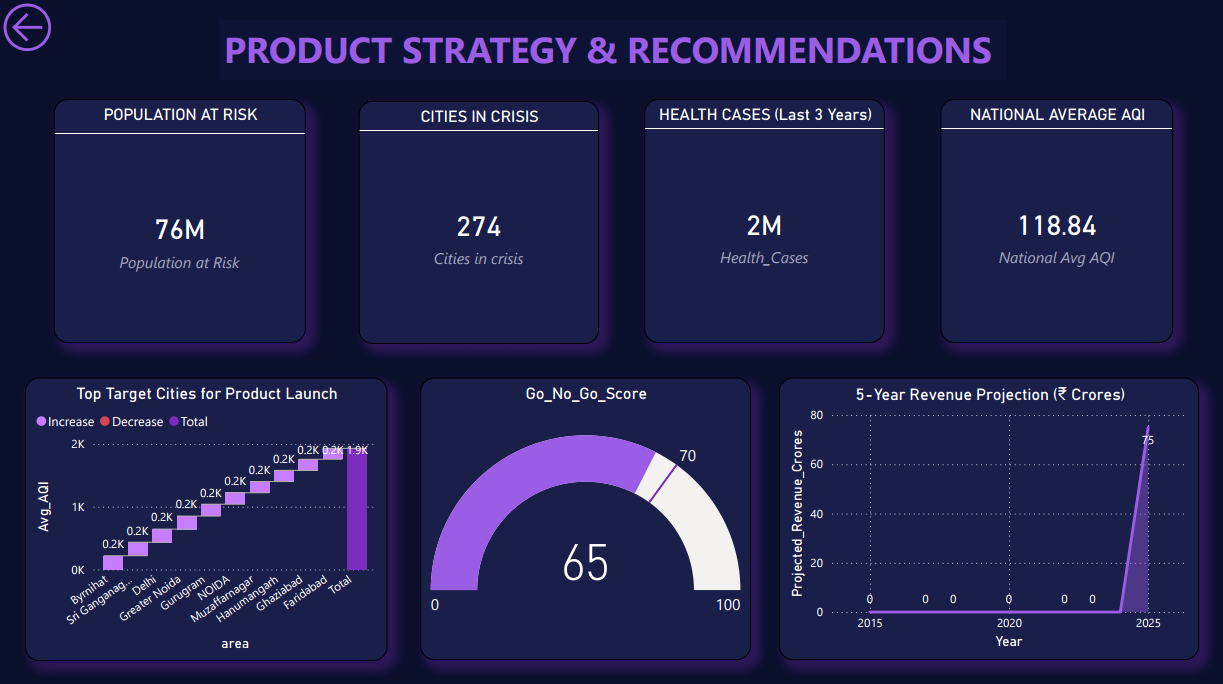

What the dashboard file says about the page in this screenshot:
{"tool":"powerbi","page":{"name":"PRODUCT STRATEGY","canvas":[1280,720],"ordinal":4},"visuals":[{"type":"card","title":"POPULATION AT RISK","fields":{"Values":["Sum(population_data.value)"]},"box":[58.8,106.2,262.5,253.8],"z":0},{"type":"card","title":"CITIES IN CRISIS","fields":{"Values":["AQI_data.Count_Cities_Poor_AQI"]},"box":[376.2,107.5,250,253.8],"z":1000},{"type":"card","title":"HEALTH CASES (Last 3 Years)","fields":{"Values":["AQI_data.Total_Health_Cases"]},"box":[672.5,106.2,250,253.8],"z":2000},{"type":"card","title":"NATIONAL AVERAGE AQI","fields":{"Values":["AQI_data.Avg_AQI"]},"box":[981.2,106.2,241.2,253.8],"z":3000},{"type":"waterfallChart","title":"Top Target Cities for Product Launch","fields":{"Category":["AQI_data.area"],"Y":["AQI_data.Avg_AQI"]},"box":[28.8,396.2,377.5,295],"z":4000},{"type":"areaChart","title":"5-Year Revenue Projection (₹ Crores)","fields":{"Category":["dim_date.Year"],"Y":["AQI_data.Projected_Revenue_Crores"]},"box":[812.5,396.2,437.5,293.8],"z":5000},{"type":"gauge","fields":{"Y":["AQI_data.Go_No_Go_Score"]},"box":[440,396.2,343.8,293.8],"z":6000},{"type":"textbox","box":[231,24,819,62],"z":7000},{"type":"actionButton","box":[0,0,67.5,62.5],"z":8000}]}

Visuals, with their boxes in screenshot pixels (x1, y1, x2, y2), scaled from the page's 1280x720 canvas onto the 1223x684 screenshot:
"POPULATION AT RISK" card: (x1=56, y1=101, x2=307, y2=342)
"CITIES IN CRISIS" card: (x1=359, y1=102, x2=598, y2=343)
"HEALTH CASES (Last 3 Years)" card: (x1=643, y1=101, x2=881, y2=342)
"NATIONAL AVERAGE AQI" card: (x1=938, y1=101, x2=1168, y2=342)
"Top Target Cities for Product Launch" waterfallChart: (x1=28, y1=376, x2=388, y2=657)
"5-Year Revenue Projection (₹ Crores)" areaChart: (x1=776, y1=376, x2=1194, y2=656)
gauge - AQI_data.Go_No_Go_Score: (x1=420, y1=376, x2=749, y2=656)
textbox: (x1=221, y1=23, x2=1003, y2=82)
actionButton: (x1=0, y1=0, x2=64, y2=59)
